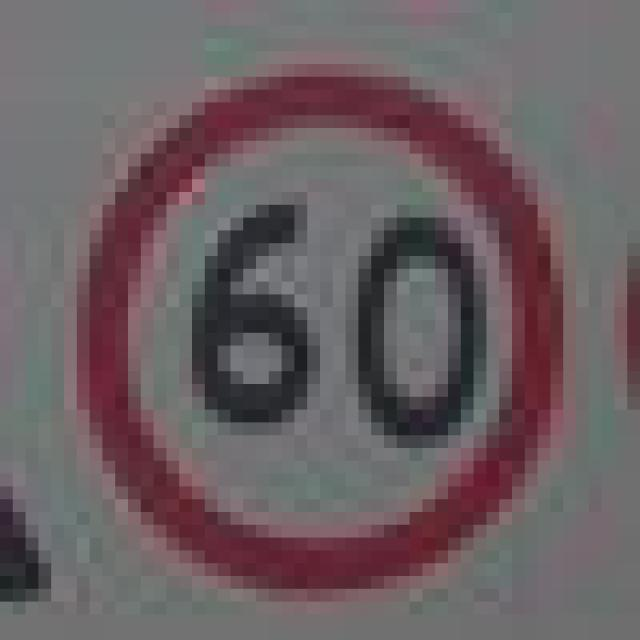speed_limit_40: (77, 51, 550, 589)
